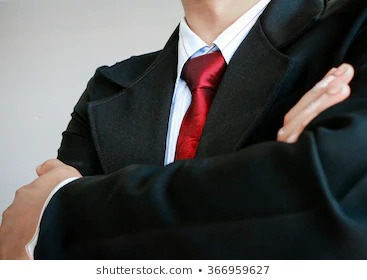F_tie: (159, 44, 236, 166)
